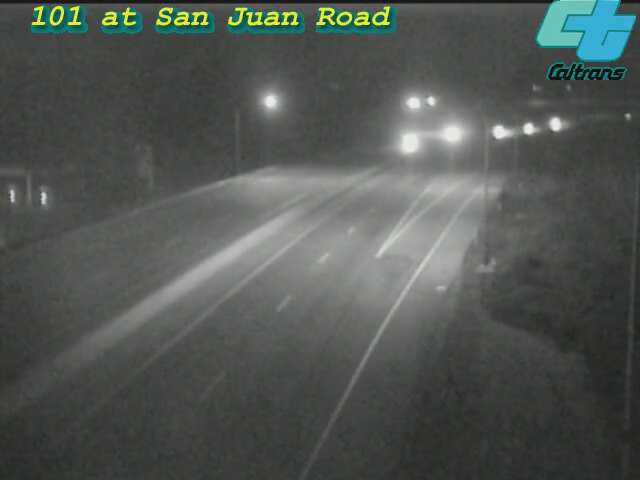vehicle: (386, 116, 436, 166), (431, 108, 481, 158), (529, 99, 579, 149), (504, 104, 554, 154), (472, 108, 522, 158)
